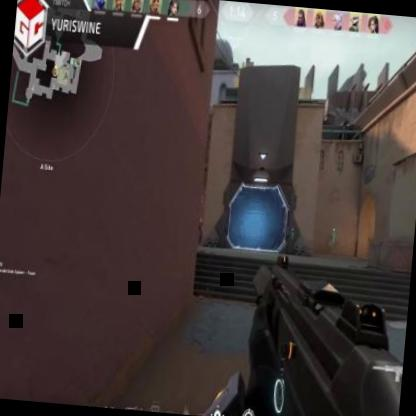enemy: (192, 212, 204, 244)
enemy_head: (198, 212, 202, 218)
